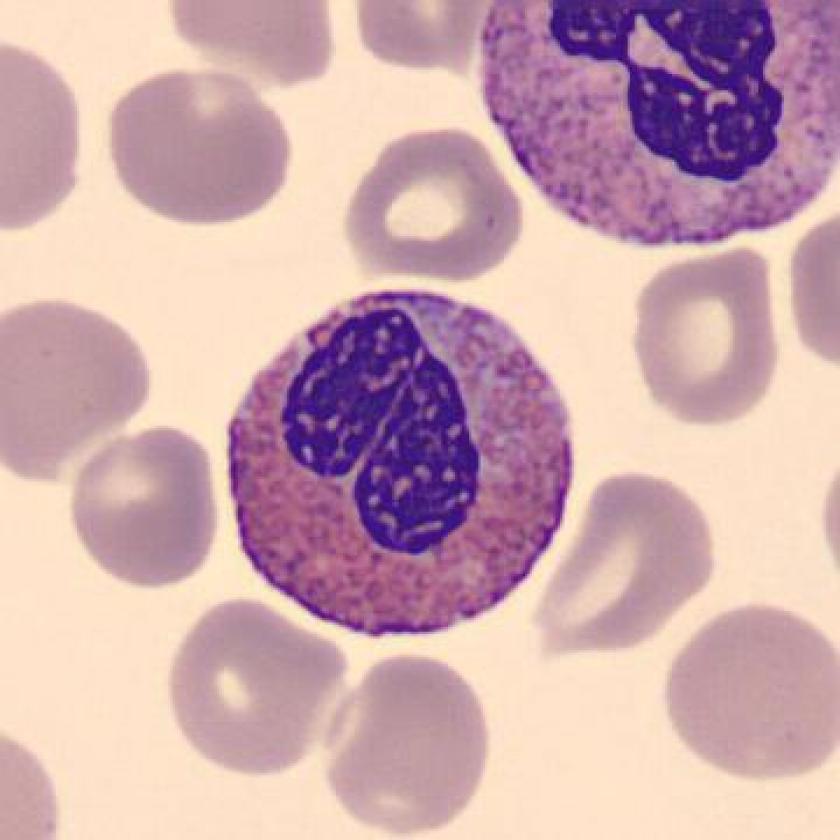eosinophil: (218, 274, 584, 649)
